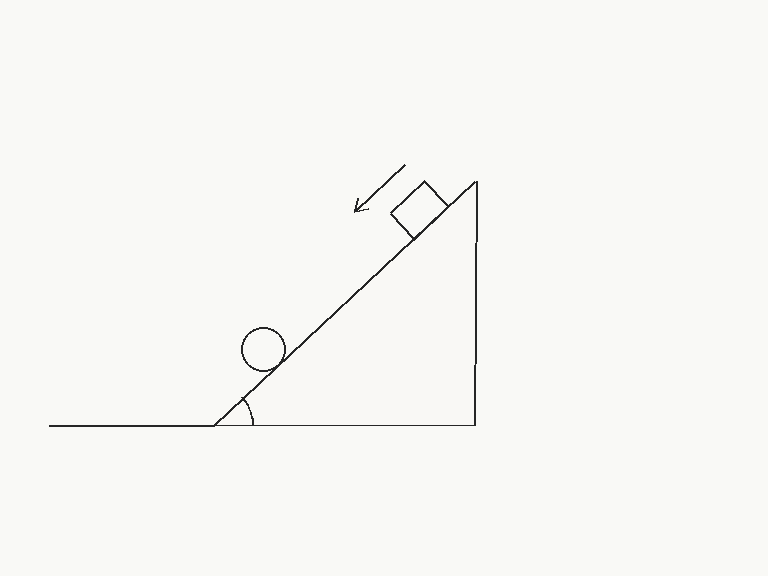ball: (239, 325, 287, 373)
block: (388, 180, 449, 240)
ramp: (211, 178, 478, 427)
